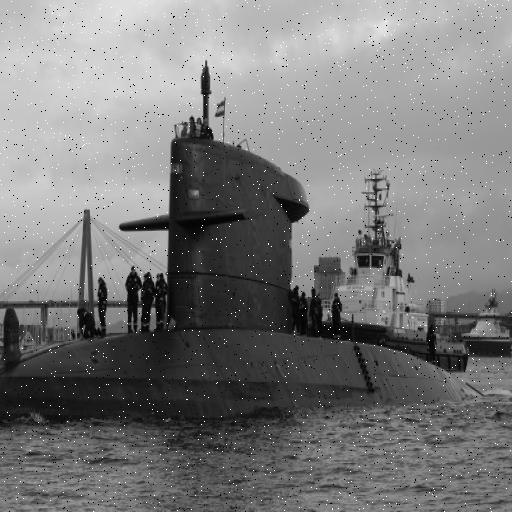submarine: (1, 53, 503, 420)
